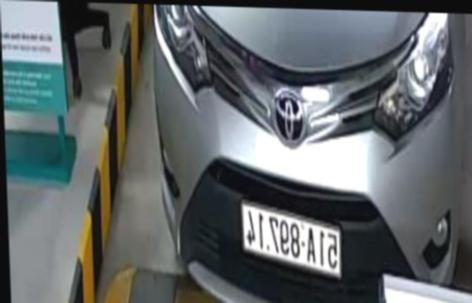License_Plate: (238, 200, 347, 279)
